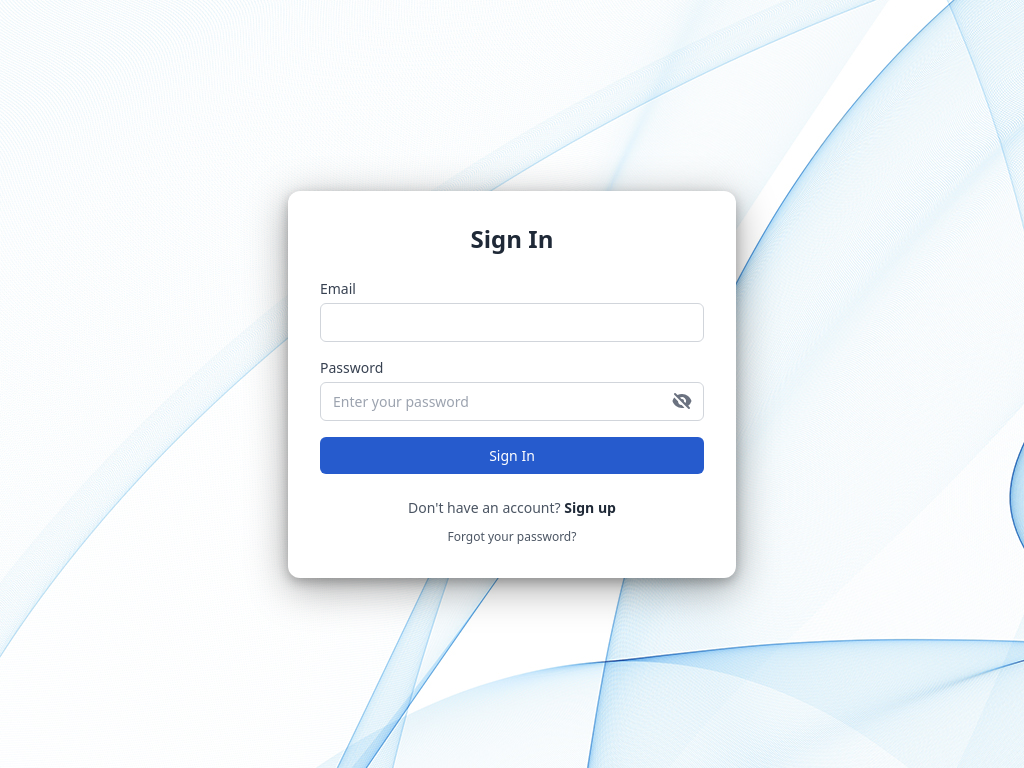
Scenario: Auth Component › should toggle back to sign in
Click the button "Sign up": (590, 508) [564, 498, 616, 518]
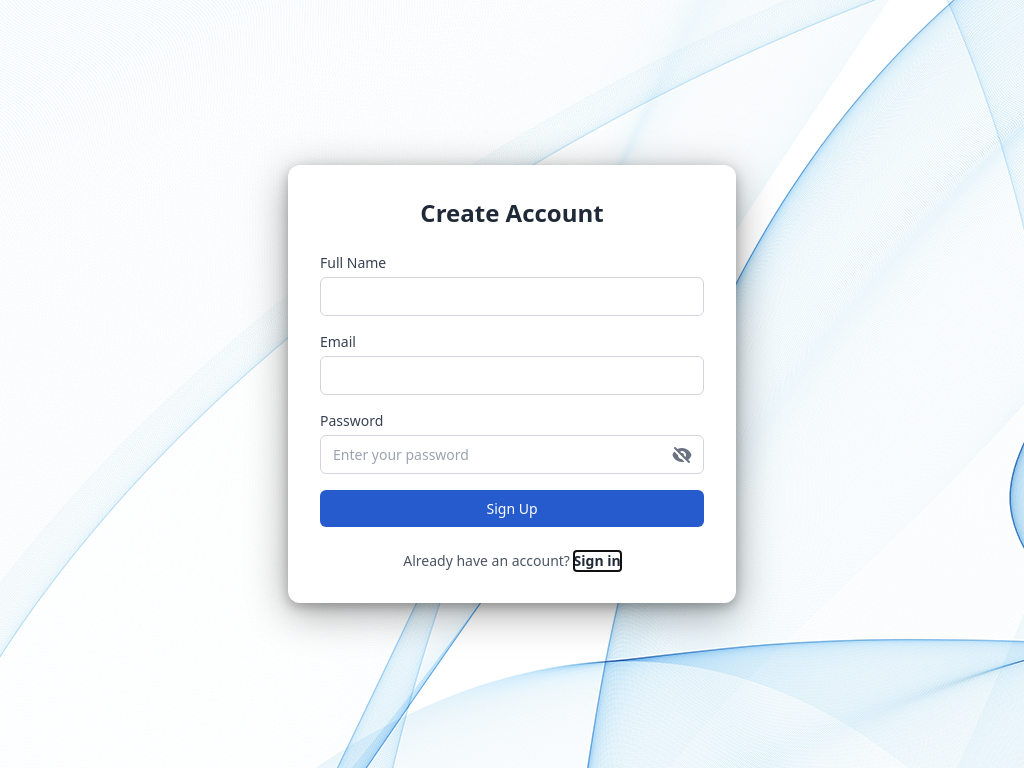
Click the button "Sign in": (597, 561) [574, 551, 621, 571]
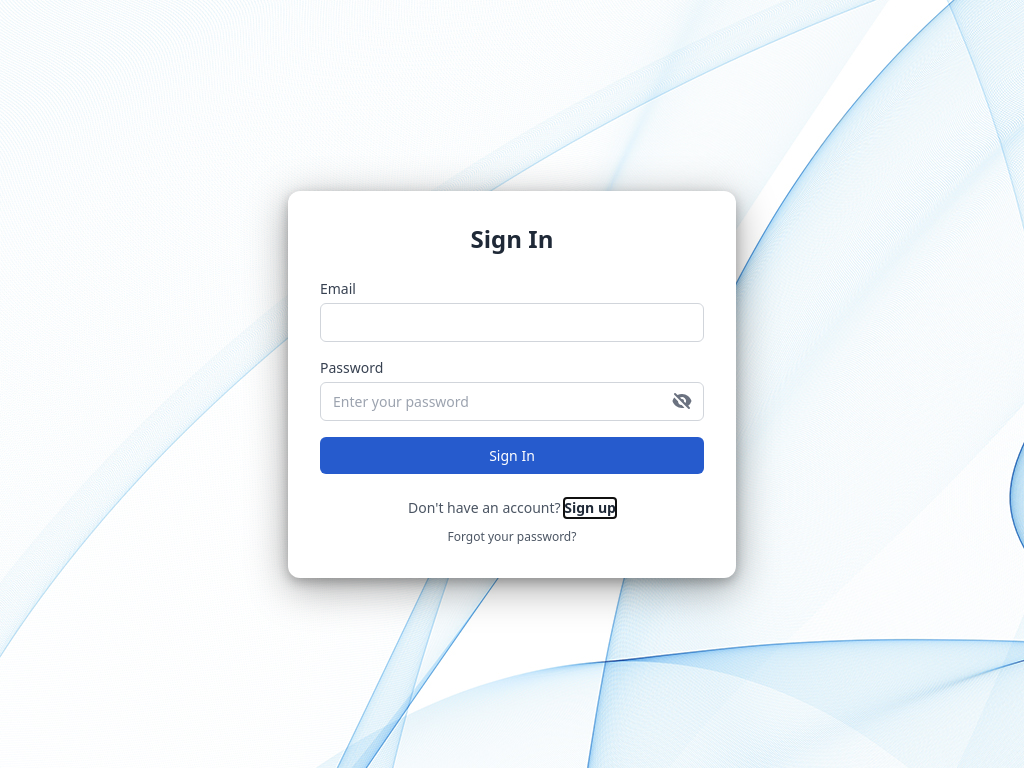
Check: the heading "Sign In" is shown, box [471, 222, 554, 254]
Check: the label labelled "Full Name" is gone
